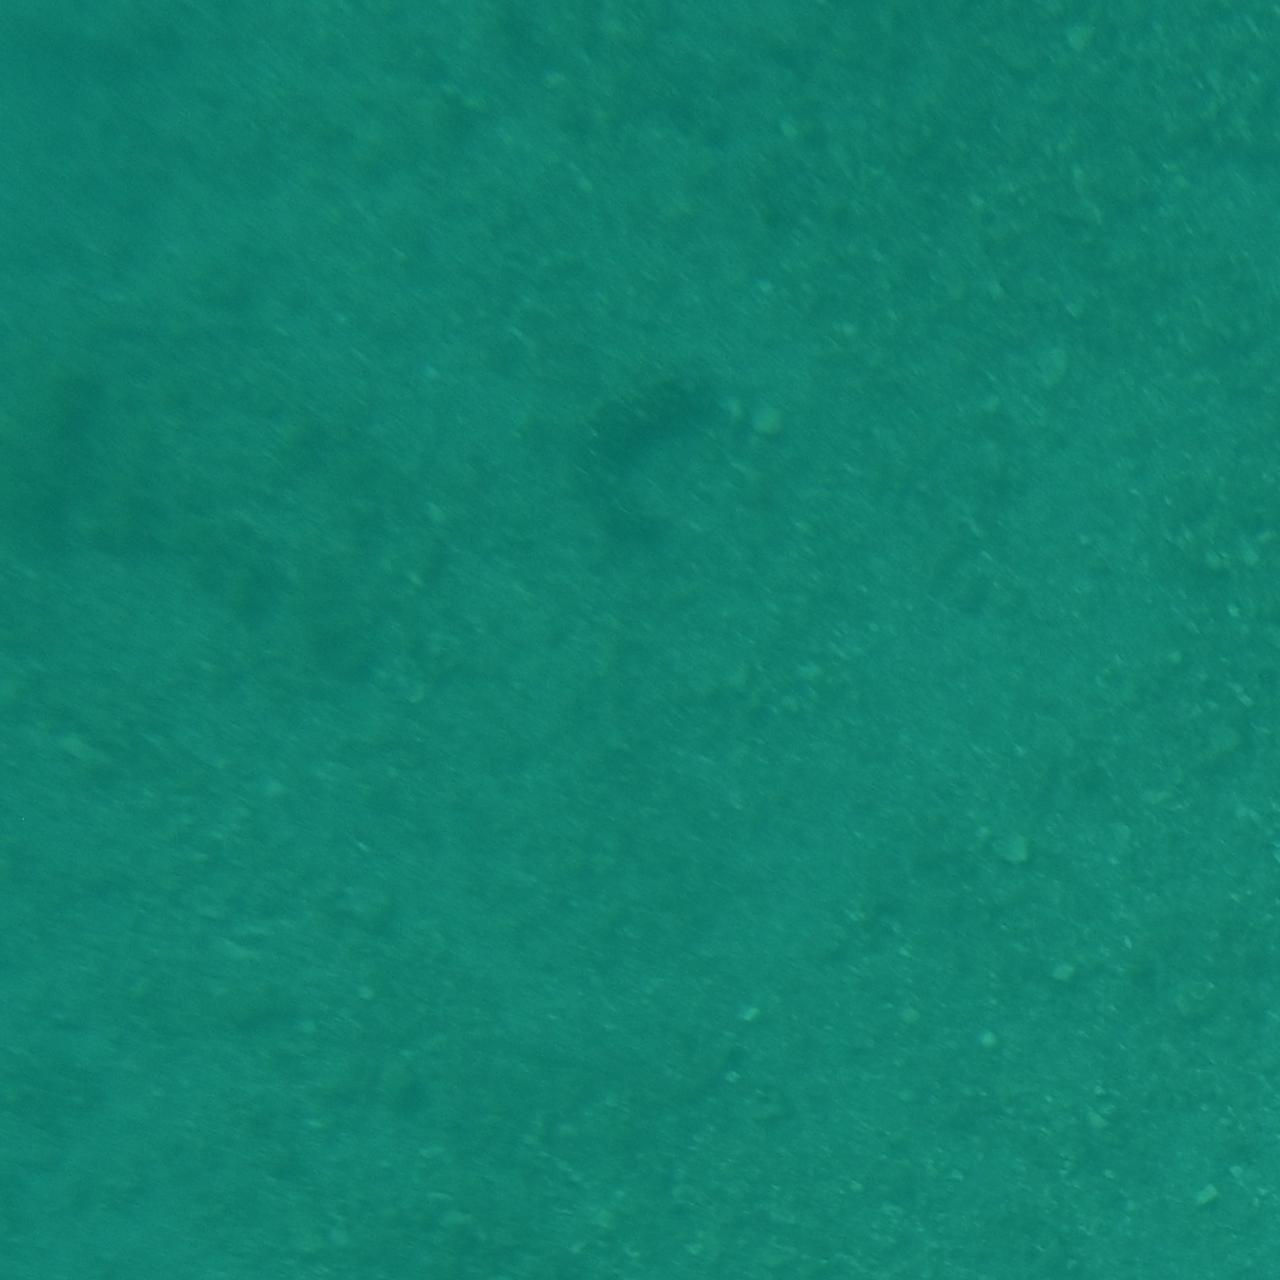Holothuria tubulosa: (567, 351, 713, 574)
